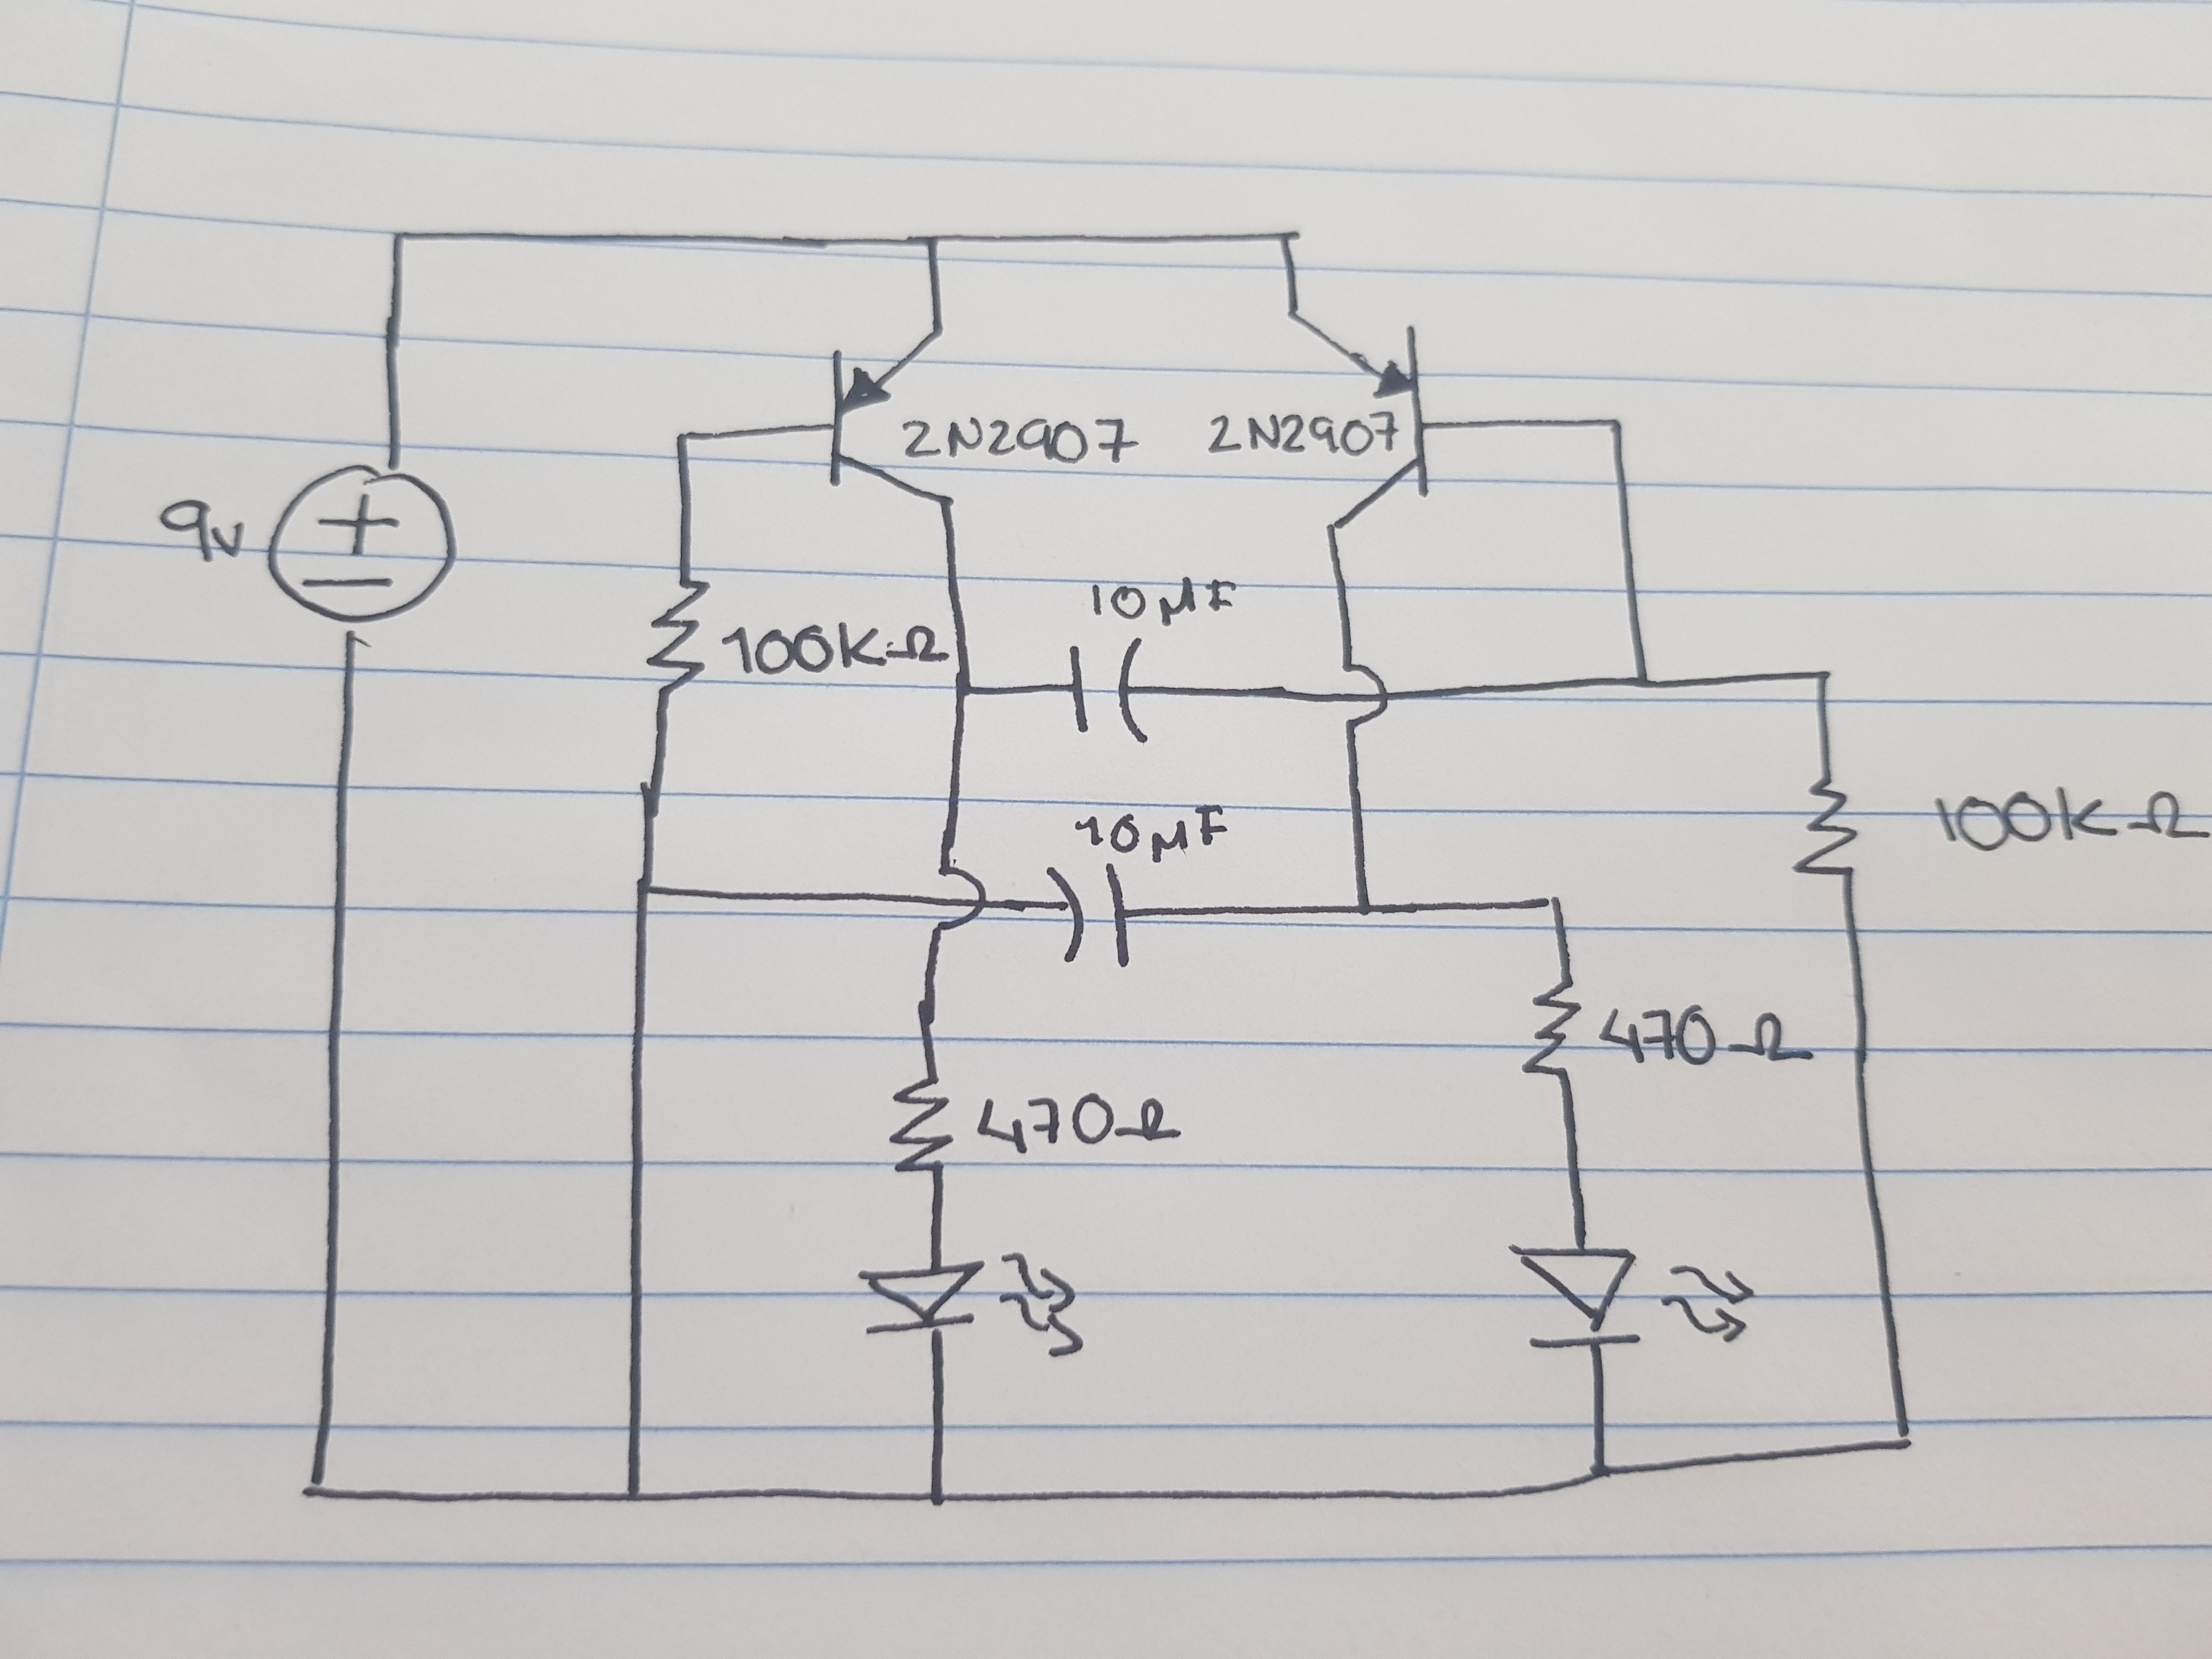capacitor.unpolarized: (1036, 854, 1144, 974), (1052, 633, 1157, 755)
crossover: (928, 863, 991, 938), (1336, 659, 1392, 739)
diode.light_emitting: (1494, 1227, 1770, 1363), (845, 1241, 1092, 1377)
junction: (606, 1457, 667, 1523), (1871, 1413, 1928, 1480), (284, 1455, 341, 1521), (899, 221, 958, 274), (913, 1471, 970, 1523), (369, 207, 421, 265), (1331, 885, 1392, 934), (1616, 657, 1669, 713), (1796, 657, 1848, 709), (1573, 1457, 1629, 1506), (1594, 403, 1642, 451), (939, 671, 991, 713), (1268, 213, 1317, 256), (624, 863, 672, 906), (662, 420, 702, 460), (1533, 887, 1568, 917)
resistor: (636, 565, 712, 711), (1784, 765, 1871, 887), (881, 1065, 961, 1182), (1510, 972, 1590, 1087)
text: (1928, 784, 2212, 871), (975, 1087, 1190, 1171), (1597, 999, 1810, 1082), (900, 406, 1137, 479), (712, 622, 942, 678), (1085, 565, 1247, 643), (1068, 798, 1242, 868), (1204, 411, 1404, 464), (146, 488, 251, 570)
transistor: (1275, 300, 1444, 542), (813, 322, 961, 519)
voltage.dc: (261, 455, 469, 640)
